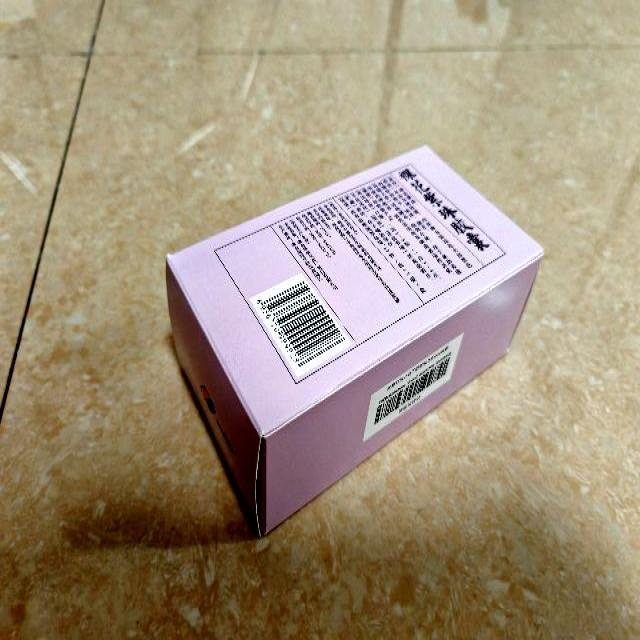box: (164, 144, 544, 536)
